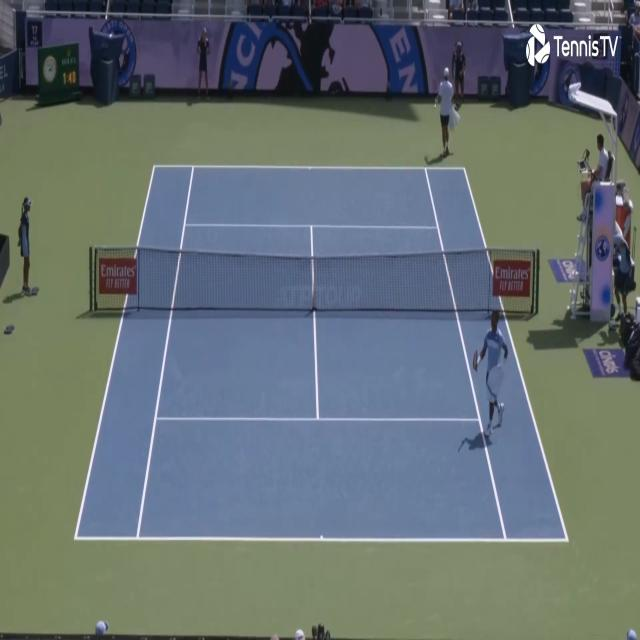tennis-player: (470, 306, 511, 444), (433, 65, 460, 158)
